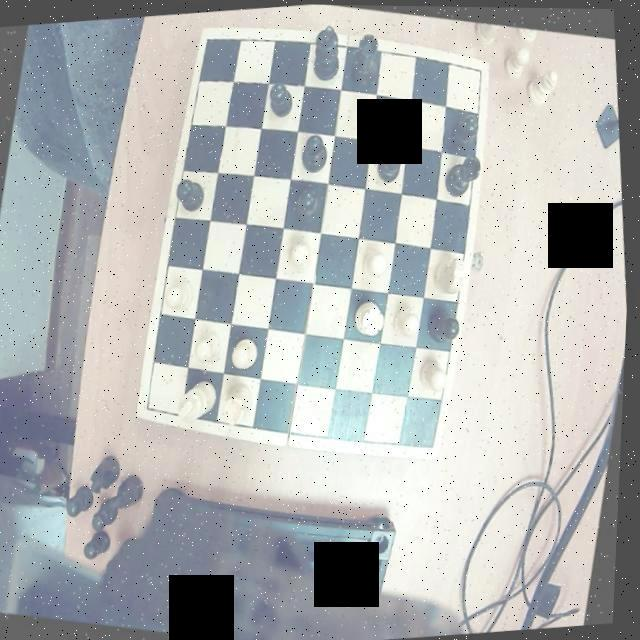chess-table-corners: (419, 426, 447, 456), (140, 393, 168, 421), (196, 24, 220, 56), (464, 54, 490, 80)
